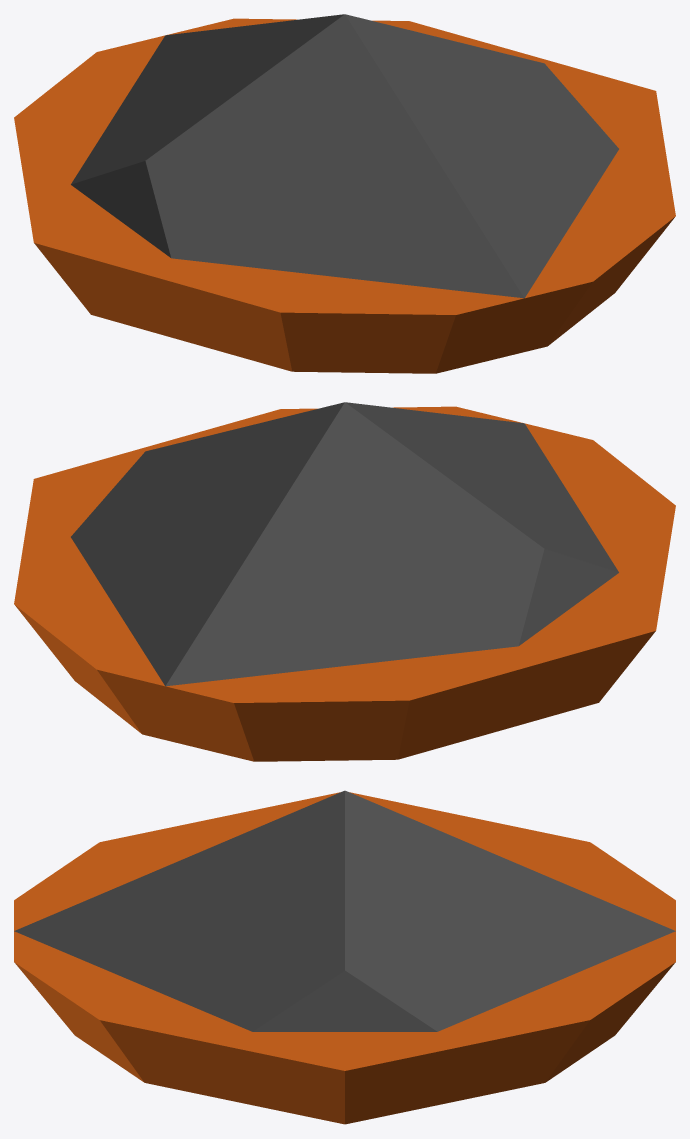
Rendered from CaptainHat.fbx.
3 views of the same model, one above another, from view 1: azimuth 30°, elevation 25°; view 2: azimuth 150°, elevation 25°; view 3: azimuth 270°, elevation 25° (orthographic). The views are drawn at different scales.
Visible parts, largest first — view 1: Cube; view 2: Cube; view 3: Cube.
Part boxes in pixels (x1=…): Cube: x1=14, y1=14, x2=675, y2=373; Cube: x1=14, y1=402, x2=675, y2=761; Cube: x1=14, y1=790, x2=675, y2=1124.
Bounding box in the file's own units: 200 × 73.28 × 200.
